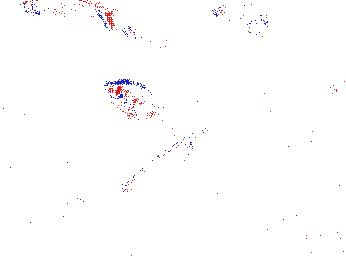X-ray fish: (103, 77, 173, 130)
glassfish: (104, 127, 209, 199)
redtail glassfish: (20, 1, 125, 35), (209, 2, 277, 33), (119, 23, 175, 60)
